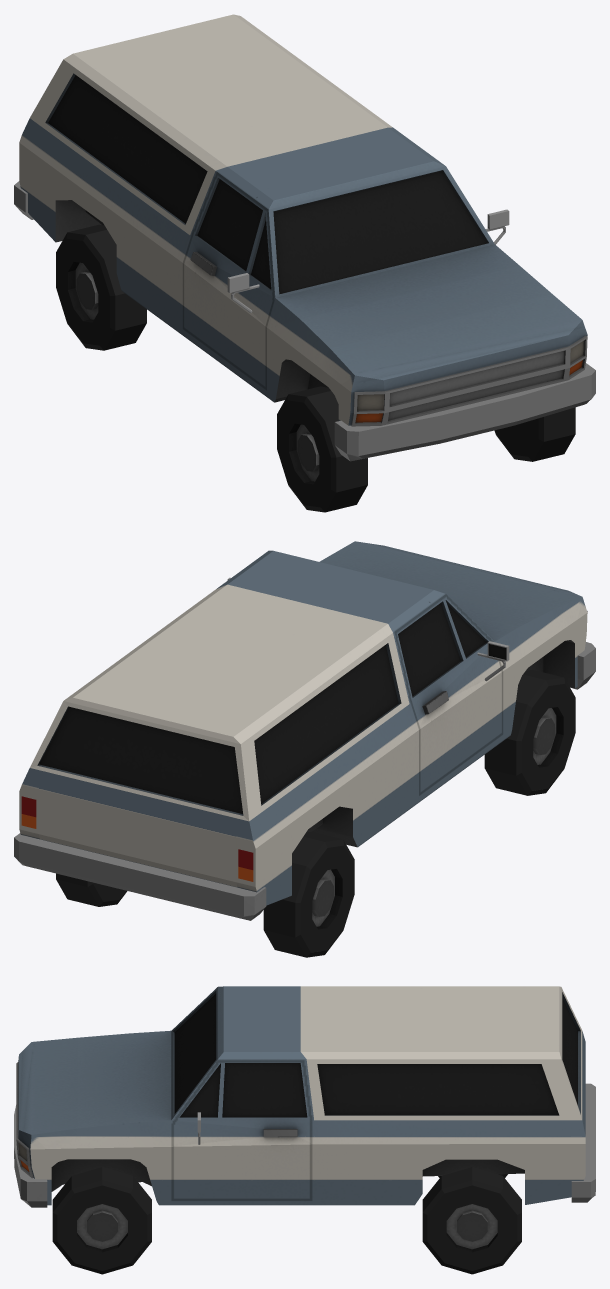
File: Pickup_Truck.fbx
3 renders of one model, top to bottom at view 1: azimuth 30°, elevation 25°; view 2: azimuth 150°, elevation 25°; view 3: azimuth 270°, elevation 25°, orthographic. The views are drawn at different scales.
Parts seen in each view (by area): view 1: Pickup_Body, Pickup_Cover, Pickup_Wheel_Right (×2), Pickup_FrontBumper, Pickup_Wheel_Left; view 2: Pickup_Cover, Pickup_Body, Pickup_Wheel_Right (×2), Pickup_Trunk, Pickup_Rear, Pickup_Wheel_Left, Pickup_FrontBumper, Pickup_SideMirror_Right; view 3: Pickup_Body, Pickup_Cover, Pickup_Wheel_Left (×2), Pickup_Rear, Pickup_FrontBumper.
Part boxes in pixels (bbox=[...]): Pickup_Body: bbox=[19, 118, 587, 426]; Pickup_Cover: bbox=[30, 14, 392, 234]; Pickup_Wheel_Right (×2): bbox=[56, 224, 367, 512]; Pickup_FrontBumper: bbox=[334, 363, 595, 461]; Pickup_Wheel_Left: bbox=[494, 407, 575, 461]; Pickup_Cover: bbox=[30, 584, 409, 821]; Pickup_Body: bbox=[19, 541, 587, 905]; Pickup_Wheel_Right (×2): bbox=[263, 670, 575, 957]; Pickup_Trunk: bbox=[38, 770, 238, 887]; Pickup_Rear: bbox=[14, 833, 266, 920]; Pickup_Wheel_Left: bbox=[56, 873, 127, 906]; Pickup_FrontBumper: bbox=[570, 642, 595, 689]; Pickup_SideMirror_Right: bbox=[477, 641, 509, 681]; Pickup_Body: bbox=[16, 986, 585, 1205]; Pickup_Cover: bbox=[300, 986, 582, 1120]; Pickup_Wheel_Left (×2): bbox=[52, 1167, 521, 1274]; Pickup_Rear: bbox=[571, 1083, 595, 1202]; Pickup_FrontBumper: bbox=[14, 1105, 47, 1207].
Bounding box in the file's own units: 6.46 × 5.45 × 13.93.
